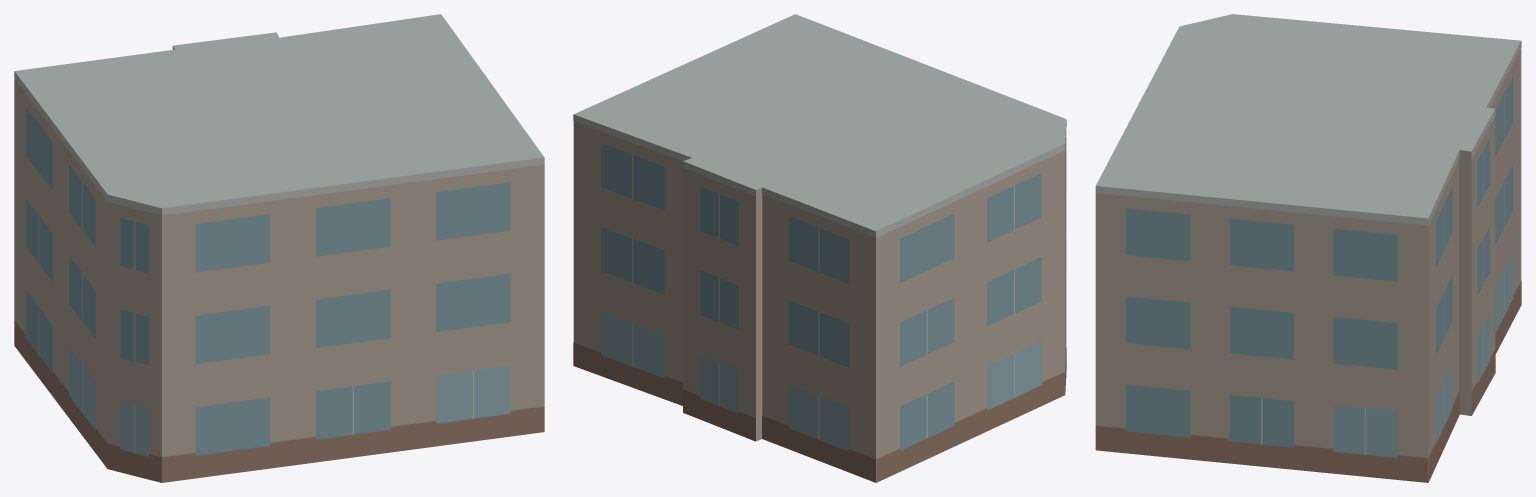
Rendered from survey-upis-32758949.glb.
3 renders of one model, left to right at view 1: azimuth 30°, elevation 25°; view 2: azimuth 150°, elevation 25°; view 3: azimuth 270°, elevation 25°, orthographic. The views are drawn at different scales.
Visible parts, largest first — view 1: survey-upis-32758949.tmp; view 2: survey-upis-32758949.tmp; view 3: survey-upis-32758949.tmp.
Boxes of the visible parts, x1,y1,x2,y2 form: survey-upis-32758949.tmp: (14,14,544,482); survey-upis-32758949.tmp: (573,14,1066,482); survey-upis-32758949.tmp: (1095,14,1521,482).
Size of the model in its own units: 15.18 by 9.15 by 13.36.
